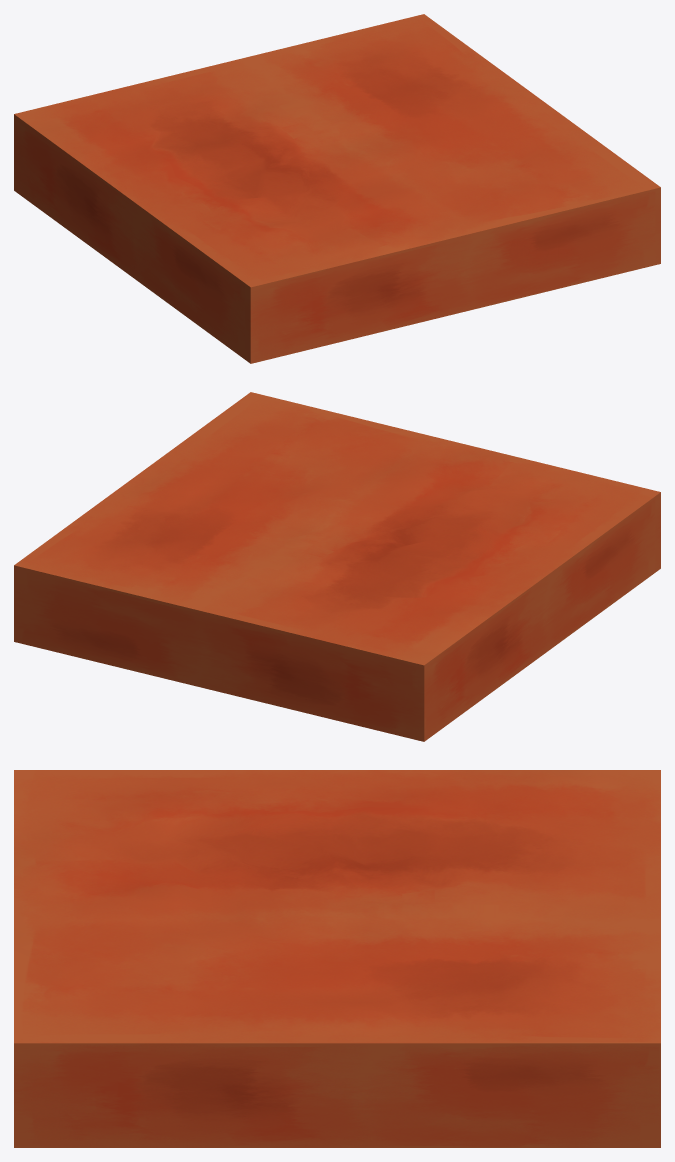
The model's file is Tile3_textured.fbx.
3 views of the same model, one above another, from view 1: azimuth 30°, elevation 25°; view 2: azimuth 150°, elevation 25°; view 3: azimuth 270°, elevation 25° (orthographic). The views are drawn at different scales.
Parts seen in each view (by area): view 1: pCube2; view 2: pCube2; view 3: pCube2.
Boxes of the visible parts, x1,y1,x2,y2 form: pCube2: [14, 14, 660, 363]; pCube2: [14, 392, 660, 741]; pCube2: [14, 770, 660, 1147].
Size of the model in its own units: 3.81 by 0.7114 by 3.81.
